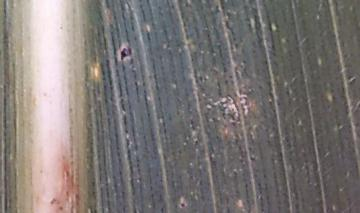tarspot: (117, 44, 135, 61), (48, 196, 57, 206), (248, 154, 257, 162), (180, 201, 187, 209), (57, 23, 64, 31), (294, 118, 300, 126), (159, 206, 164, 213), (58, 205, 63, 211), (194, 139, 198, 144)
